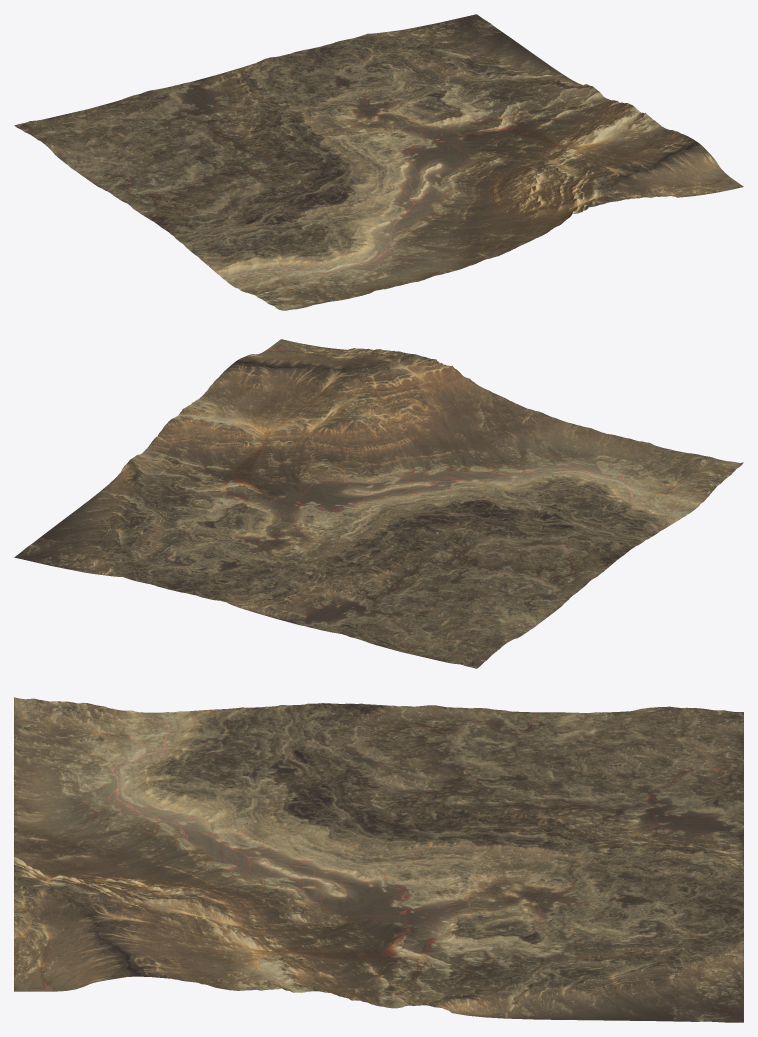
Rendered from 2terrain-1k.glb.
3 views of the same model, one above another, from view 1: azimuth 30°, elevation 25°; view 2: azimuth 150°, elevation 25°; view 3: azimuth 270°, elevation 25° (orthographic). The views are drawn at different scales.
Parts seen in each view (by area): view 1: Object_2; view 2: Object_2; view 3: Object_2.
Boxes of the visible parts, x1,y1,x2,y2 form: Object_2: (14,14,743,310); Object_2: (14,339,743,668); Object_2: (14,697,743,1022).
Size of the model in its own units: 8000 by 668 by 8000.
Materials: 1 (1 with a texture image).
